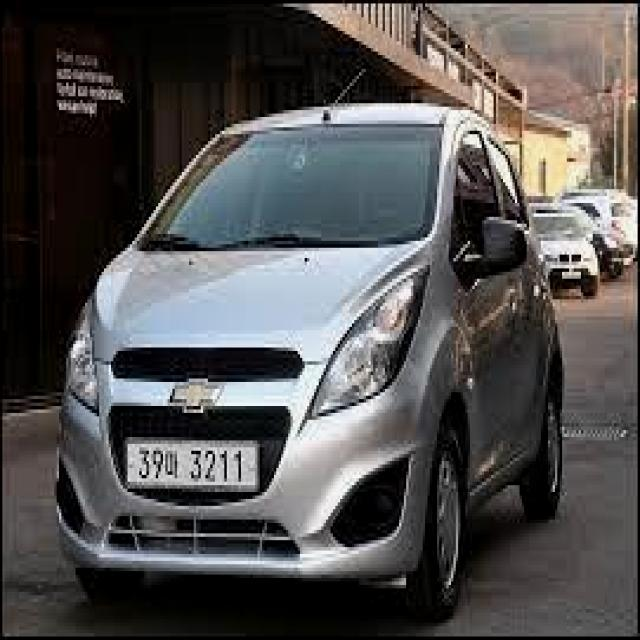car: (49, 92, 574, 626)
illegal_plate: (128, 434, 259, 498)
